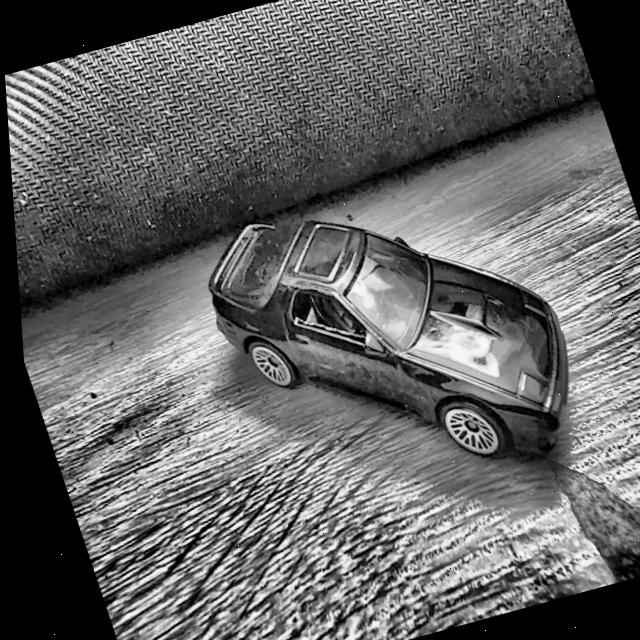car: (179, 154, 598, 526)
